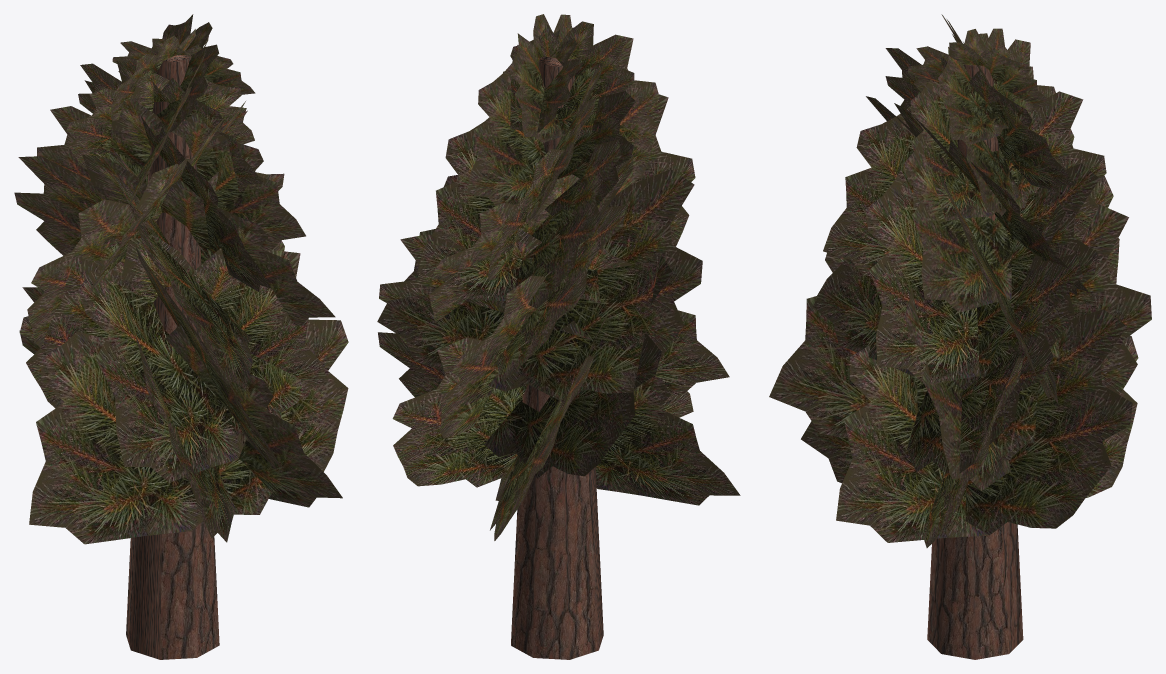
Rendered from ctree_pine_a.glb.
3 renders of one model, left to right at view 1: azimuth 30°, elevation 25°; view 2: azimuth 150°, elevation 25°; view 3: azimuth 270°, elevation 25°, orthographic.
Parts seen in each view (by area): view 1: leaf, woodBark; view 2: leaf, woodBark; view 3: leaf, woodBark.
Part boxes in pixels (left/top/right/bottom): leaf: left=14, top=14, right=348, bottom=544; woodBark: left=126, top=51, right=219, bottom=659; leaf: left=377, top=14, right=740, bottom=540; woodBark: left=511, top=56, right=603, bottom=659; leaf: left=769, top=14, right=1151, bottom=547; woodBark: left=927, top=54, right=1023, bottom=659.
Bounding box in the file's own units: 0.6106 × 1.05 × 0.5976.
2 materials, 2 textured.
